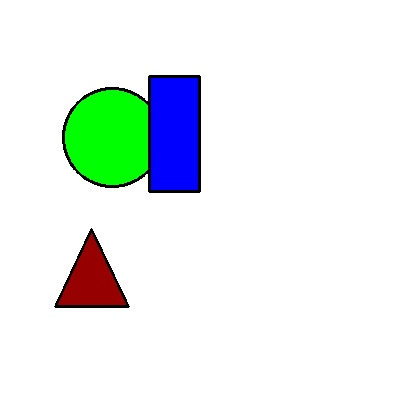circle: (54, 88, 170, 186)
rectangle: (149, 76, 199, 191)
triangle: (55, 229, 128, 306)
